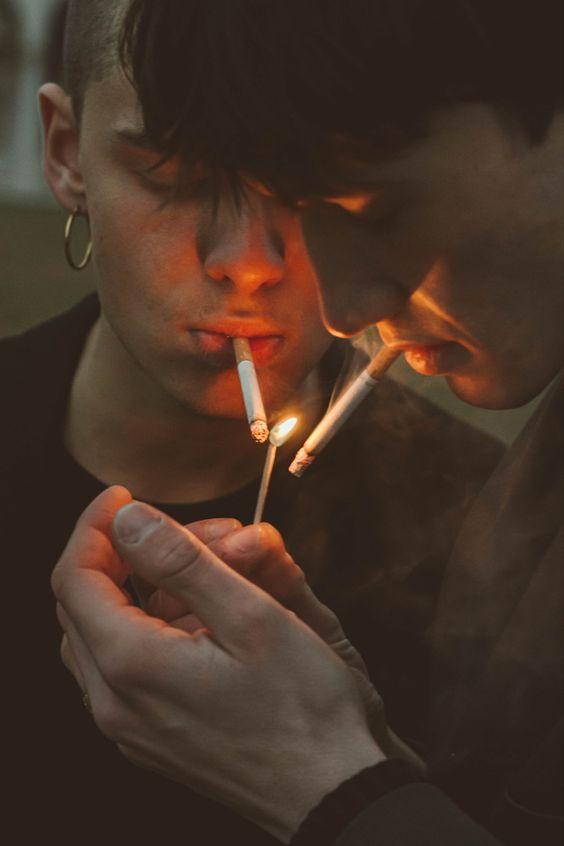cigarette: (287, 345, 402, 479), (233, 336, 270, 445)
